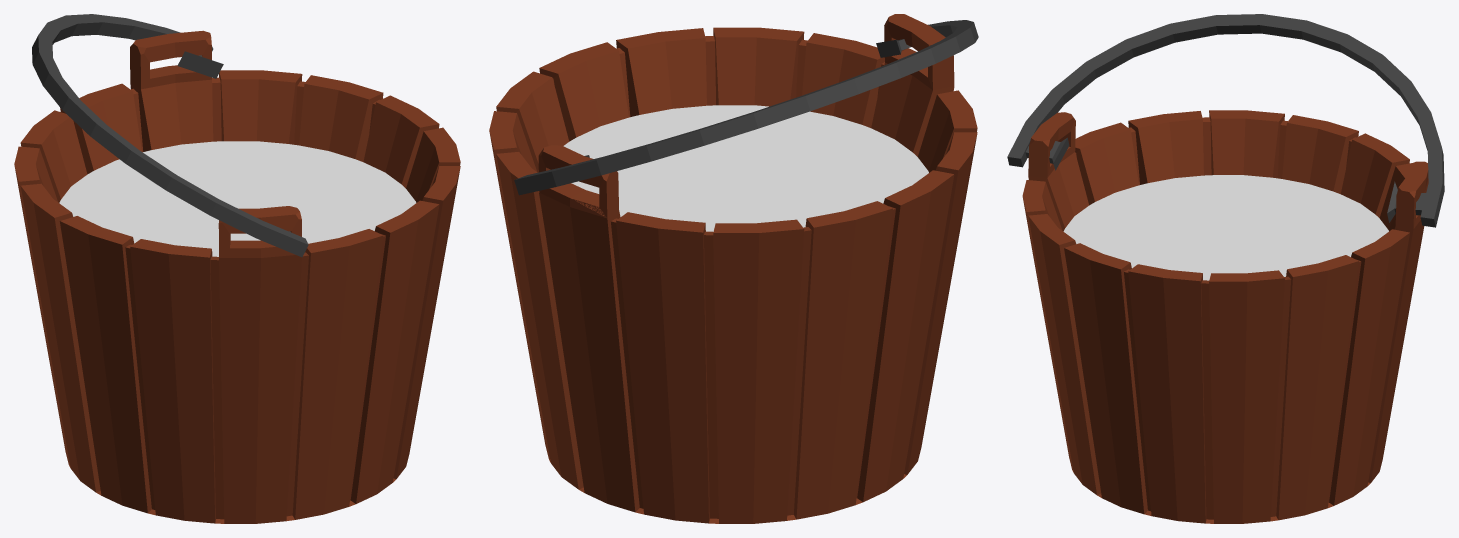
Rendered from BucketOFMilk.fbx.
3 views of the same model, side by side, from view 1: azimuth 30°, elevation 25°; view 2: azimuth 150°, elevation 25°; view 3: azimuth 270°, elevation 25° (orthographic). The views are drawn at different scales.
Visible parts, largest first — view 1: Circle.001; view 2: Circle.001; view 3: Circle.001.
Boxes of the visible parts, <box> form: Circle.001: <box>14,14,460,523</box>; Circle.001: <box>489,14,978,523</box>; Circle.001: <box>1007,14,1444,523</box>.
Bounding box in the file's own units: 785 × 789 × 847.
